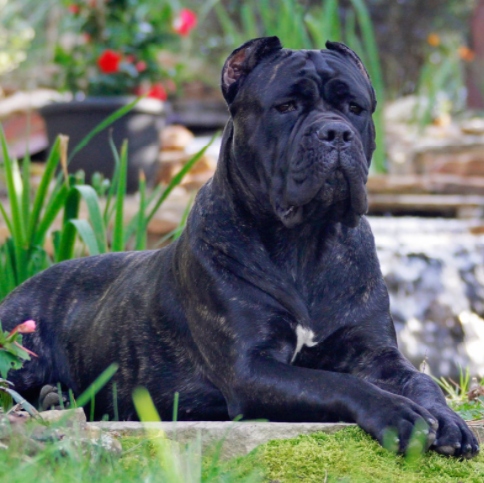dog: (4, 33, 464, 438)
